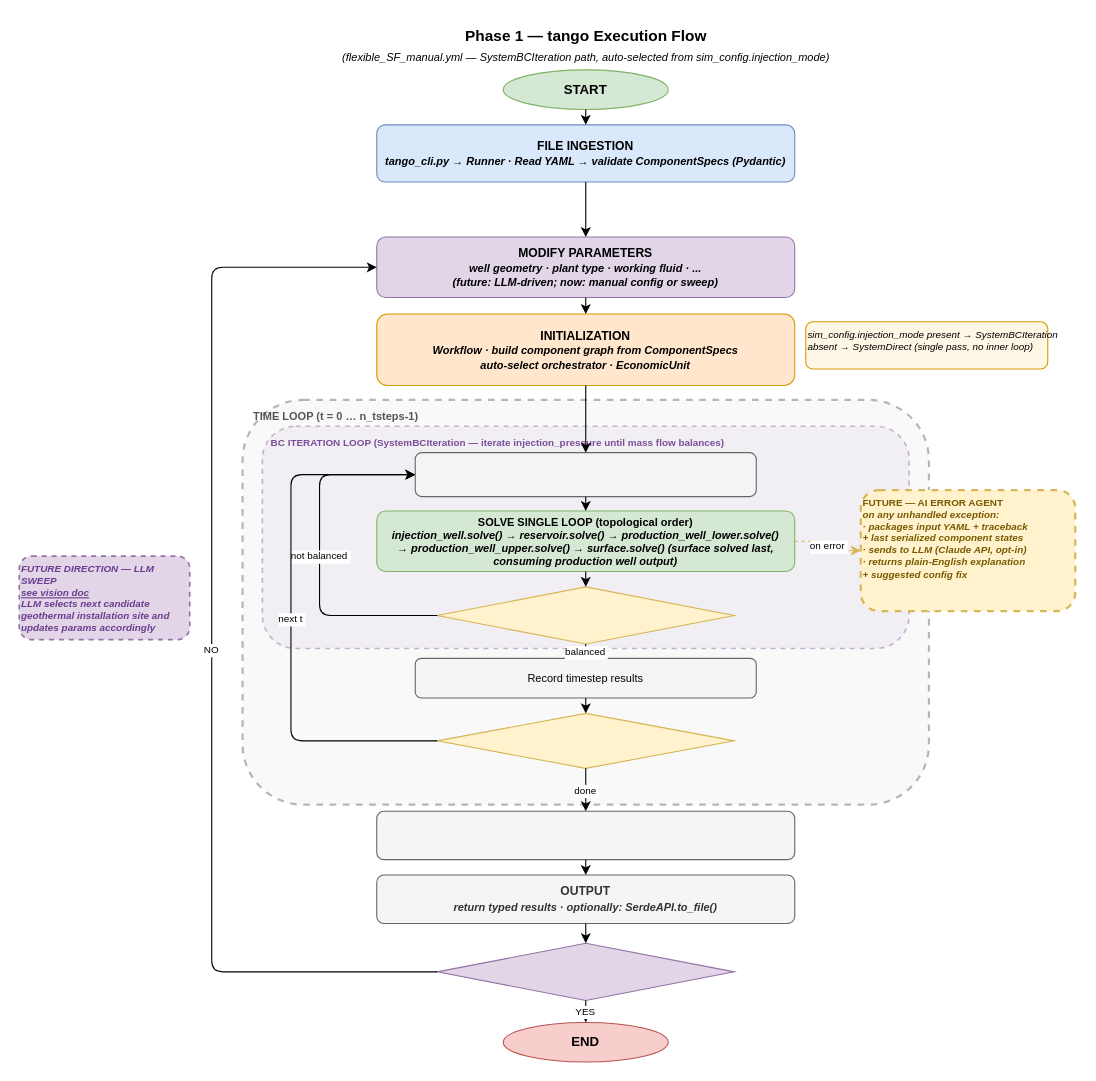
Some shapes in this 1096 by 1081 pixel diagram are drawn without their labels. The box of each missing label's shape, as (x1, y1, x2, y2) in pixels:
Converged or budget reached?: (436, 942, 734, 1000)
ECONOMICS EconomicUnit.solve(): (376, 810, 795, 860)
Mass flow balanced?: (436, 586, 734, 644)
Set injection_pressure guess (initial value from surface ComponentSpec): (414, 452, 756, 497)
t < n_tsteps-1?: (436, 712, 734, 768)
